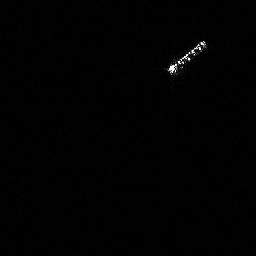ship: (164, 38, 208, 78)
